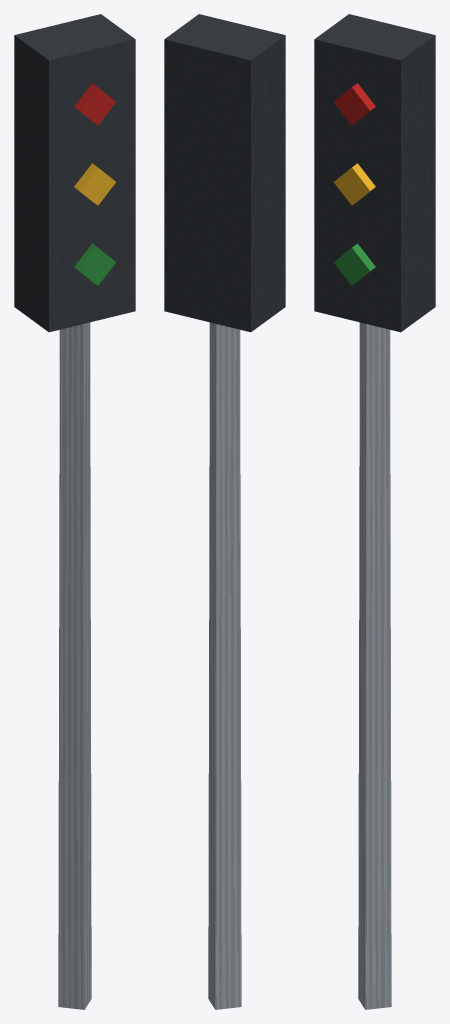
Rendered from traffic-signals-lod1.glb.
The picture shows the model from 3 angles, left to right: view 1: azimuth 30°, elevation 25°; view 2: azimuth 150°, elevation 25°; view 3: azimuth 330°, elevation 25°; orthographic projection.
Parts seen in each view (by area): view 1: traffic-signals-lod1; view 2: traffic-signals-lod1; view 3: traffic-signals-lod1.
Part boxes in pixels (x1,y1,x2,y2): traffic-signals-lod1: (14,14,135,1009); traffic-signals-lod1: (164,14,285,1009); traffic-signals-lod1: (314,14,435,1009).
Size of the model in its own units: 0.26 by 2.77 by 0.21.
Materials: 1 (1 with a texture image).
